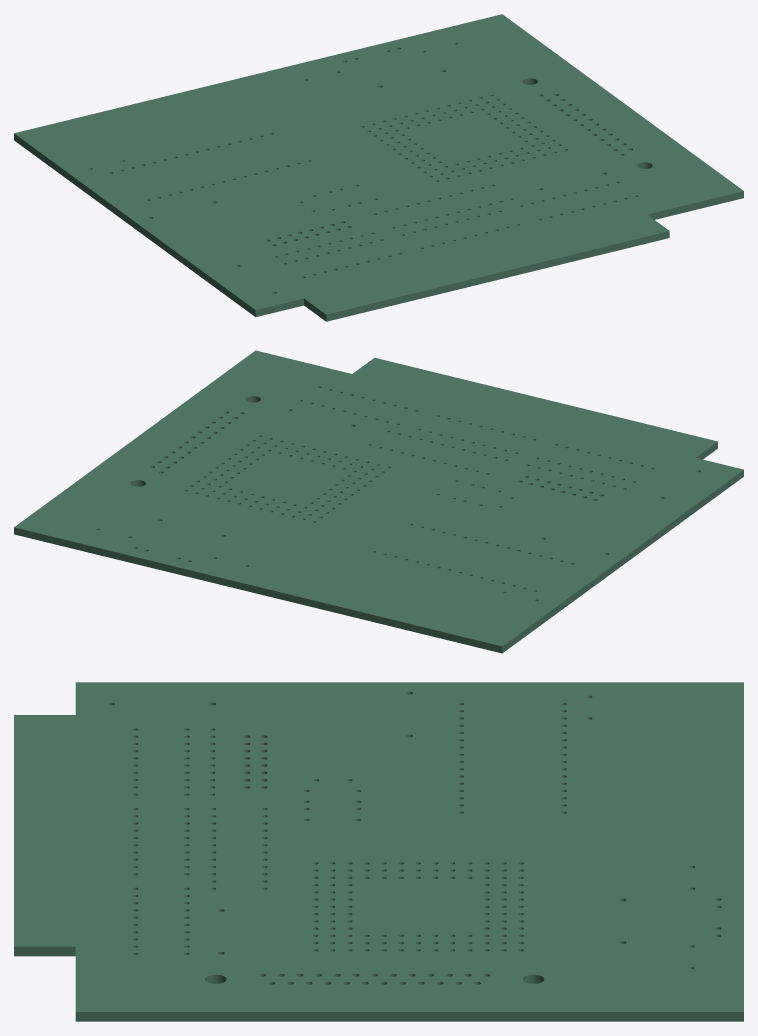
File: interf-transformed.glb
3 renders of one model, top to bottom at view 1: azimuth 30°, elevation 25°; view 2: azimuth 150°, elevation 25°; view 3: azimuth 270°, elevation 25°, orthographic. The views are drawn at different scales.
Visible parts, largest first — view 1: =>[0:1:1:2]; view 2: =>[0:1:1:2]; view 3: =>[0:1:1:2].
Part boxes in pixels (x1,y1,x2,y2): =>[0:1:1:2]: (14,14,743,321); =>[0:1:1:2]: (14,350,743,653); =>[0:1:1:2]: (14,682,743,1021).
Size of the model in its own units: 0.1156 by 0.0016 by 0.1082.
